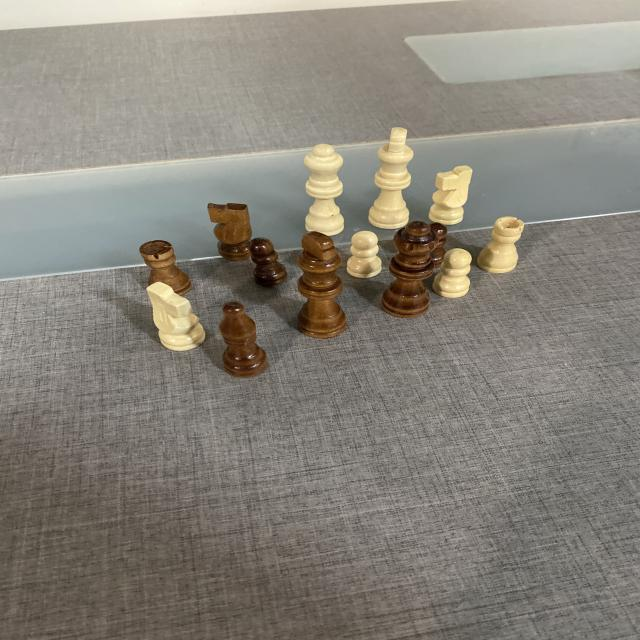Black-Bishop: (220, 300, 267, 378)
Black-King: (298, 232, 344, 339)
Black-Knight: (206, 202, 255, 260)
Black-Pawn: (251, 238, 287, 285), (424, 222, 448, 266)
Black-Queen: (388, 220, 432, 313)
Black-Rook: (138, 238, 192, 296)
White-King: (368, 128, 414, 228)
White-Knight: (145, 283, 204, 351), (430, 167, 476, 223)
White-Pawn: (434, 250, 471, 296), (348, 231, 384, 278)
White-Queen: (304, 143, 346, 236)
White-Rook: (481, 218, 528, 274)
